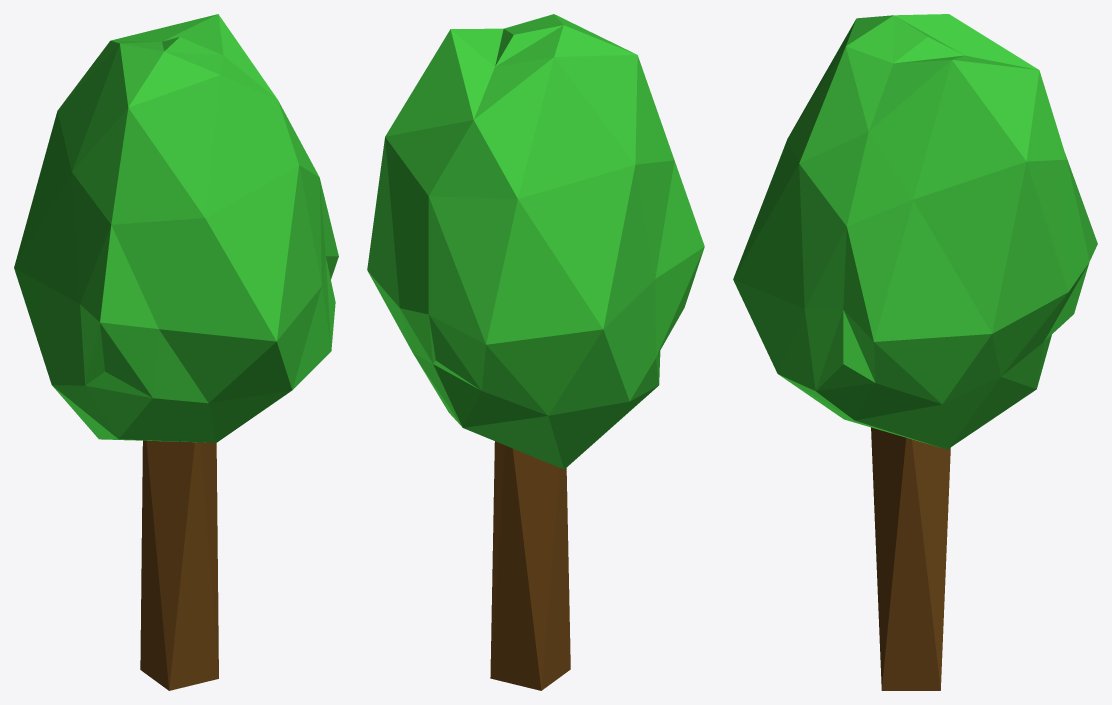
The model's file is Tree.fbx.
3 renders of one model, left to right at view 1: azimuth 30°, elevation 25°; view 2: azimuth 150°, elevation 25°; view 3: azimuth 270°, elevation 25°, orthographic. The views are drawn at different scales.
Parts seen in each view (by area): view 1: Tree; view 2: Tree; view 3: Tree.
Part boxes in pixels (x1=…): Tree: x1=14, y1=14, x2=338, y2=690; Tree: x1=367, y1=14, x2=704, y2=690; Tree: x1=733, y1=14, x2=1097, y2=690.
Size of the model in its own units: 214 by 487 by 247.
